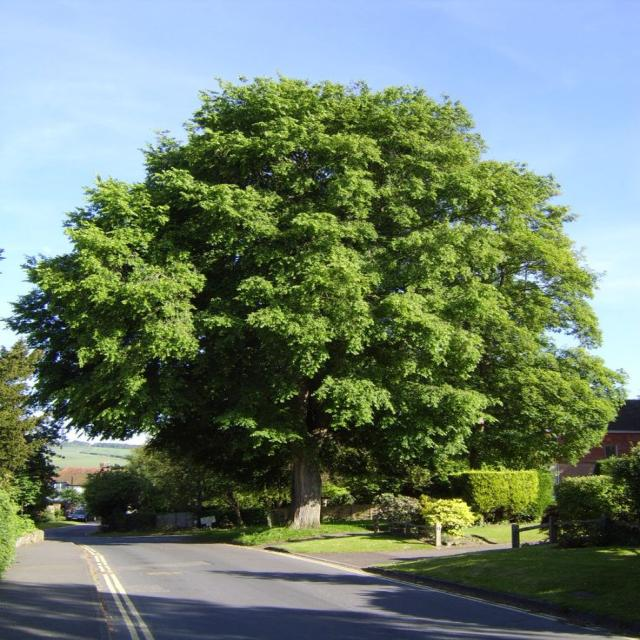olmo: (17, 81, 605, 540)
